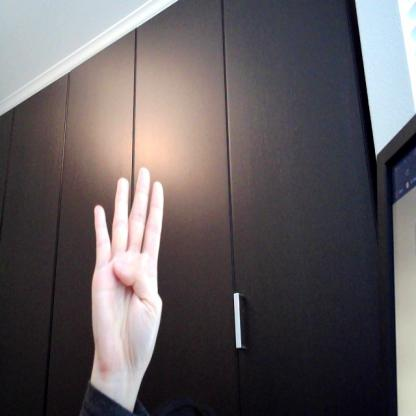four: (89, 167, 166, 376)
